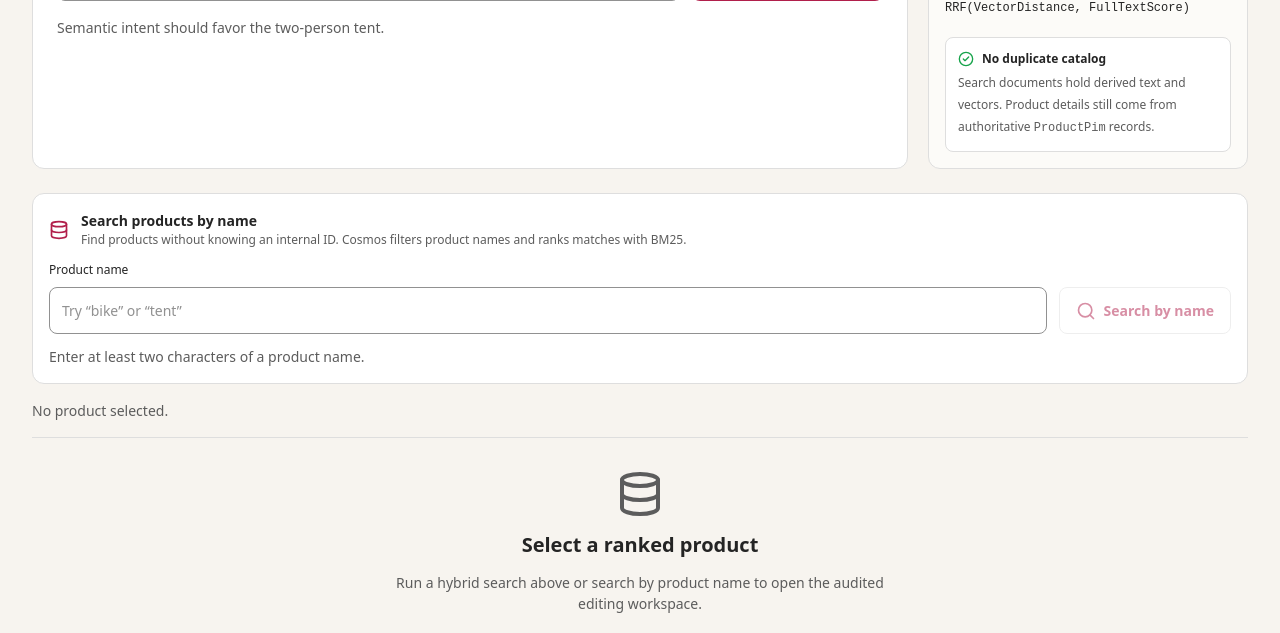
Test: App › searches by product name and opens a ranked match
(page scrolled)
Type "bike" into the field labelled "Product name".
click(548, 310); type("bike")  # box [49,287,1047,334]
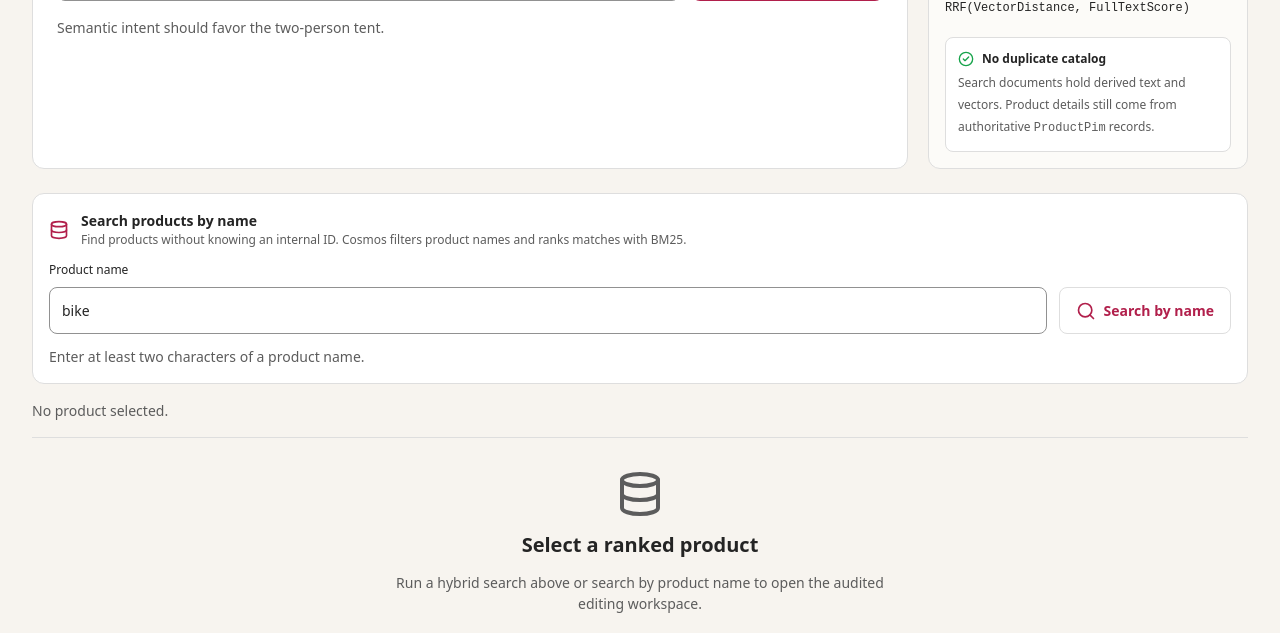
Check: the button "Search by name" is enabled
Click the button "Search by name".
click(1145, 310)  # box [1059,287,1231,334]
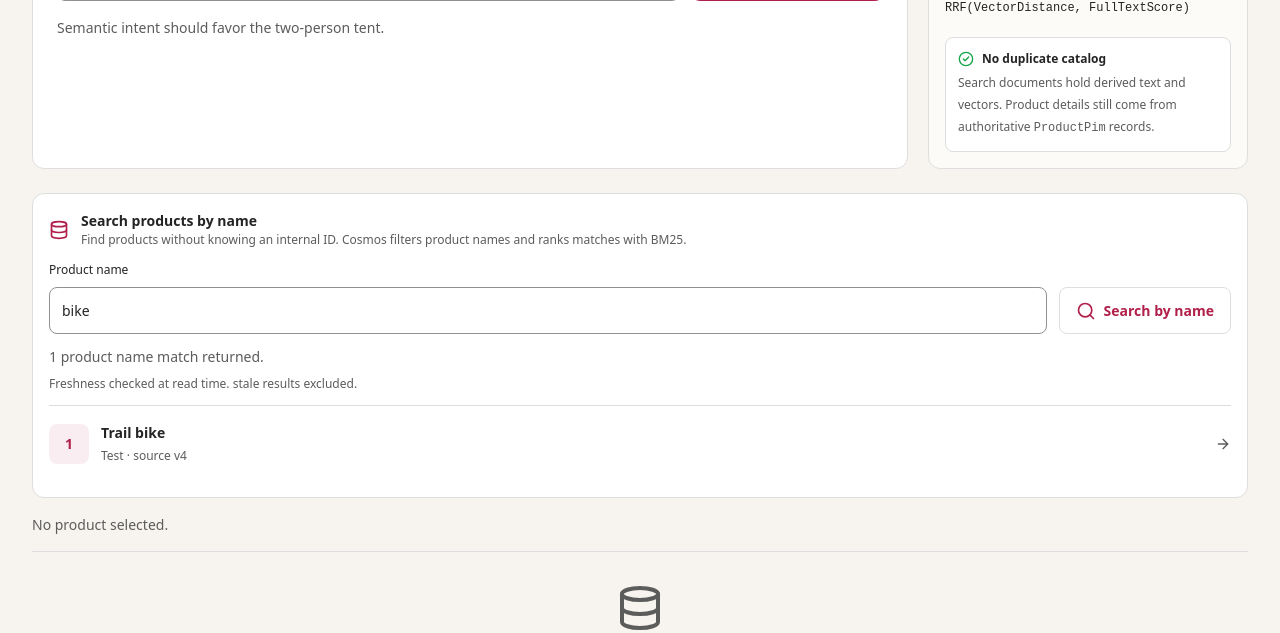
Check: the text "1 product name match returned." is shown, box [49,347,264,366]
Click the button "1 Trail bike Test · source v4".
click(69, 444)  # box [49,406,1231,481]
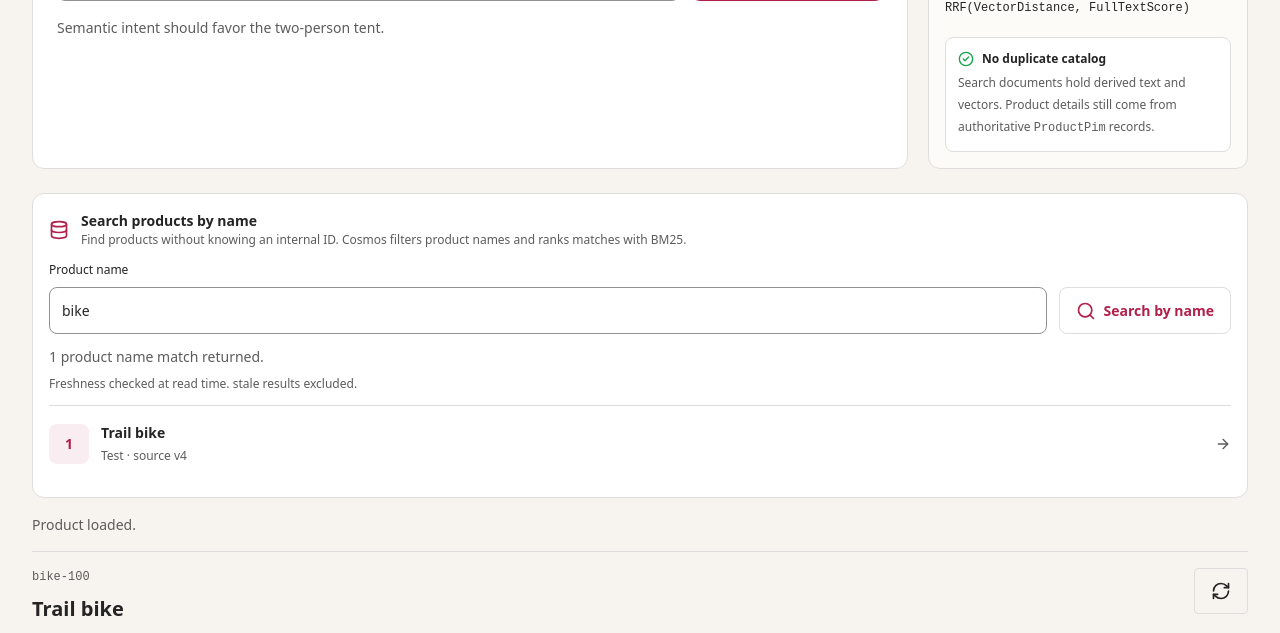
Check: the heading "Trail bike" is shown, box [32,594,134,624]
